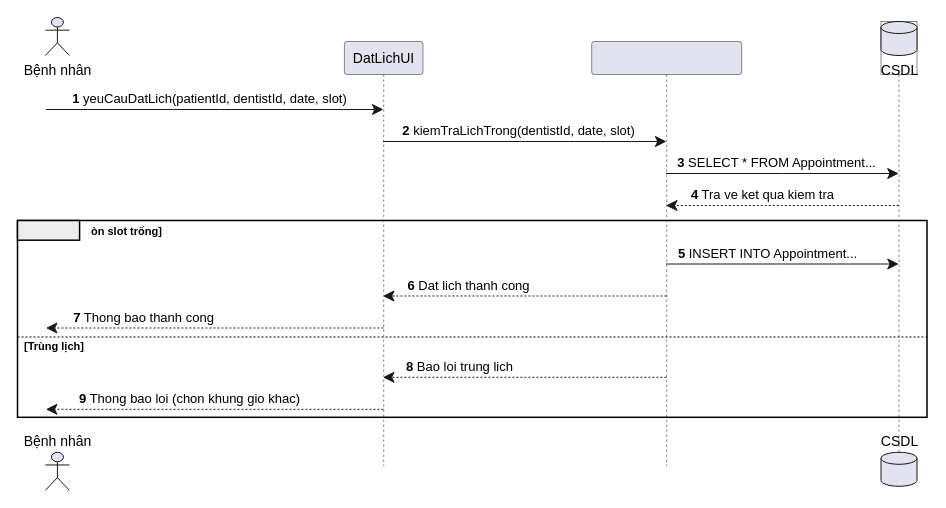
This 946x508 diagram has some shape labels left out. Here are the shapes that lost their labels. From the top down, the box of each, then its label:
(16, 219, 80, 240): alt
(591, 41, 742, 466): AppointmentService
